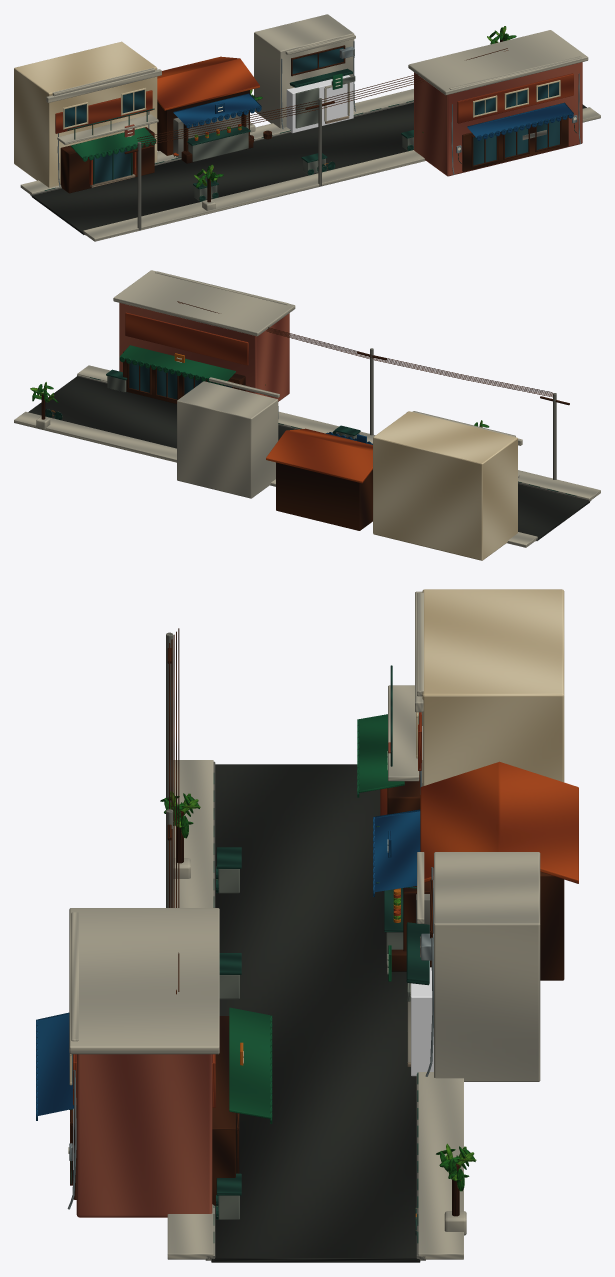
The model's file is HNP_Map007_Street_LOD0_v003.fbx.
3 views of the same model, one above another, from view 1: azimuth 30°, elevation 25°; view 2: azimuth 150°, elevation 25°; view 3: azimuth 270°, elevation 25° (orthographic). The views are drawn at different scales.
Parts seen in each view (by area): view 1: MAP007_CORNER_LOD0_S0_MAT_Asphalt, MAP007_CORNER_LOD0_S0_MAT_Concrete_Light, MAP007_CORNER_LOD0_S-1_MAT_Station_WarmPlaster, MAP007_CORNER_LOD0_S1_MAT_Station_SunFadedSalmon, MAP007_CORNER_LOD0_S1_MAT_Concrete_Light, MAP007_CORNER_LOD0_S0_MAT_Terracotta_Roof, MAP007_CORNER_LOD0_S0_MAT_Aged_Timber, MAP007_CORNER_LOD0_S1_MAT_Window_Glass, MAP007_CORNER_LOD0_S-1_MAT_Concrete_Light, MAP007_CORNER_LOD0_S0_MAT_Weathered_Shutter, MAP007_CORNER_LOD0_S-1_MAT_Aged_Timber, MAP007_CORNER_LOD0_S-1_MAT_Window_Glass (+14 smaller); view 2: MAP007_CORNER_LOD0_S-1_MAT_Station_WarmPlaster, MAP007_CORNER_LOD0_S0_MAT_Concrete_Light, MAP007_CORNER_LOD0_S0_MAT_Asphalt, MAP007_CORNER_LOD0_S0_MAT_Aged_Timber, MAP007_CORNER_LOD0_S1_MAT_Concrete_Light, MAP007_CORNER_LOD0_S1_MAT_Station_SunFadedSalmon, MAP007_CORNER_LOD0_S0_MAT_Terracotta_Roof, MAP007_CORNER_LOD0_S1_MAT_Brick_Infill, MAP007_CORNER_LOD0_S1_MAT_Awning_Green, MAP007_CORNER_LOD0_S1_MAT_Window_Glass, MAP007_CORNER_LOD0_S1_MAT_Aged_Timber, MAP007_CORNER_LOD0_S0_MAT_Concrete_Aged; view 3: MAP007_CORNER_LOD0_S0_MAT_Asphalt, MAP007_CORNER_LOD0_S0_MAT_Concrete_Light, MAP007_CORNER_LOD0_S-1_MAT_Station_WarmPlaster, MAP007_CORNER_LOD0_S1_MAT_Concrete_Light, MAP007_CORNER_LOD0_S1_MAT_Station_SunFadedSalmon, MAP007_CORNER_LOD0_S0_MAT_Terracotta_Roof, MAP007_CORNER_LOD0_S0_MAT_Aged_Timber, MAP007_CORNER_LOD0_S1_MAT_Awning_Green, MAP007_CORNER_LOD0_S-1_MAT_Concrete_Light, MAP007_CORNER_LOD0_S1_MAT_Aged_Timber, MAP007_CORNER_LOD0_S0_MAT_Awning_Blue, MAP007_CORNER_LOD0_S1_MAT_Awning_Blue (+9 smaller).
Boxes of the visible parts, <box> form: MAP007_CORNER_LOD0_S0_MAT_Asphalt: <box>31,102,586,234</box>; MAP007_CORNER_LOD0_S0_MAT_Concrete_Light: <box>20,14,600,241</box>; MAP007_CORNER_LOD0_S-1_MAT_Station_WarmPlaster: <box>14,41,157,187</box>; MAP007_CORNER_LOD0_S1_MAT_Station_SunFadedSalmon: <box>414,62,582,176</box>; MAP007_CORNER_LOD0_S1_MAT_Concrete_Light: <box>408,30,588,95</box>; MAP007_CORNER_LOD0_S0_MAT_Terracotta_Roof: <box>157,56,259,134</box>; MAP007_CORNER_LOD0_S0_MAT_Aged_Timber: <box>137,45,508,155</box>; MAP007_CORNER_LOD0_S1_MAT_Window_Glass: <box>473,82,559,165</box>; MAP007_CORNER_LOD0_S-1_MAT_Concrete_Light: <box>46,68,215,210</box>; MAP007_CORNER_LOD0_S0_MAT_Weathered_Shutter: <box>188,75,413,174</box>; MAP007_CORNER_LOD0_S-1_MAT_Aged_Timber: <box>60,124,194,193</box>; MAP007_CORNER_LOD0_S-1_MAT_Window_Glass: <box>64,90,144,183</box>; MAP007_CORNER_LOD0_S-1_MAT_Station_WarmPlaster: <box>373,411,517,560</box>; MAP007_CORNER_LOD0_S0_MAT_Concrete_Light: <box>14,365,600,547</box>; MAP007_CORNER_LOD0_S0_MAT_Asphalt: <box>28,376,589,540</box>; MAP007_CORNER_LOD0_S0_MAT_Aged_Timber: <box>177,301,553,530</box>; MAP007_CORNER_LOD0_S1_MAT_Concrete_Light: <box>36,270,295,429</box>; MAP007_CORNER_LOD0_S1_MAT_Station_SunFadedSalmon: <box>119,303,289,401</box>; MAP007_CORNER_LOD0_S0_MAT_Terracotta_Roof: <box>266,428,372,483</box>; MAP007_CORNER_LOD0_S1_MAT_Brick_Infill: <box>125,312,248,365</box>; MAP007_CORNER_LOD0_S1_MAT_Awning_Green: <box>119,345,235,385</box>; MAP007_CORNER_LOD0_S1_MAT_Window_Glass: <box>129,360,231,399</box>; MAP007_CORNER_LOD0_S1_MAT_Aged_Timber: <box>123,351,245,403</box>; MAP007_CORNER_LOD0_S0_MAT_Concrete_Aged: <box>77,348,591,541</box>; MAP007_CORNER_LOD0_S0_MAT_Asphalt: <box>211,764,420,1262</box>; MAP007_CORNER_LOD0_S0_MAT_Concrete_Light: <box>167,760,540,1259</box>; MAP007_CORNER_LOD0_S-1_MAT_Station_WarmPlaster: <box>416,589,564,786</box>; MAP007_CORNER_LOD0_S1_MAT_Concrete_Light: <box>69,908,466,1235</box>; MAP007_CORNER_LOD0_S1_MAT_Station_SunFadedSalmon: <box>76,1054,212,1217</box>; MAP007_CORNER_LOD0_S0_MAT_Terracotta_Roof: <box>393,761,578,916</box>; MAP007_CORNER_LOD0_S0_MAT_Aged_Timber: <box>167,628,564,994</box>; MAP007_CORNER_LOD0_S1_MAT_Awning_Green: <box>229,1007,272,1123</box>; MAP007_CORNER_LOD0_S-1_MAT_Concrete_Light: <box>173,591,423,878</box>; MAP007_CORNER_LOD0_S1_MAT_Aged_Timber: <box>70,1016,239,1205</box>; MAP007_CORNER_LOD0_S0_MAT_Awning_Blue: <box>373,809,420,896</box>; MAP007_CORNER_LOD0_S1_MAT_Awning_Blue: <box>36,1012,73,1120</box>.
Bounding box in the file's own units: 5600 × 1043 × 2600.
